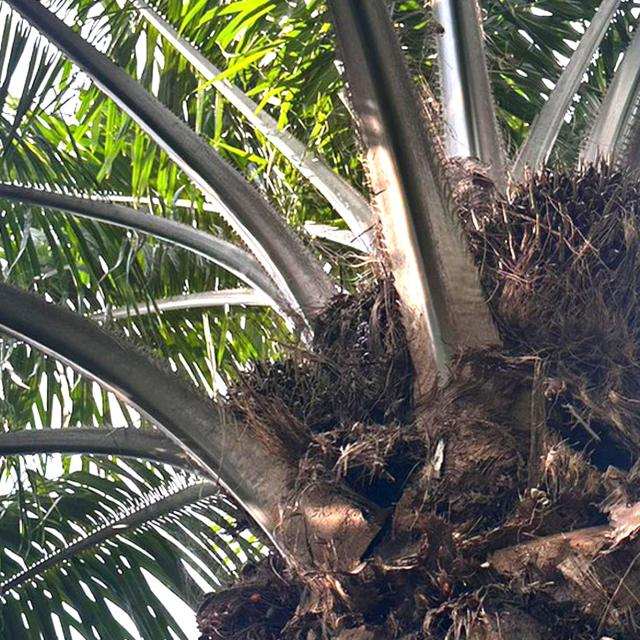unripe: (446, 132, 640, 366), (194, 342, 383, 489)
